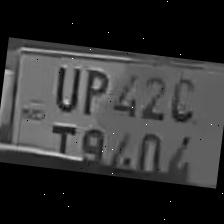0: (130, 122, 164, 174)
2: (134, 64, 170, 120)
4: (159, 122, 197, 179), (106, 62, 142, 119), (100, 118, 136, 170)
9: (72, 118, 106, 164)
C: (164, 68, 199, 124)
P: (75, 61, 110, 116)
T: (43, 117, 78, 157)
U: (47, 58, 83, 112)
